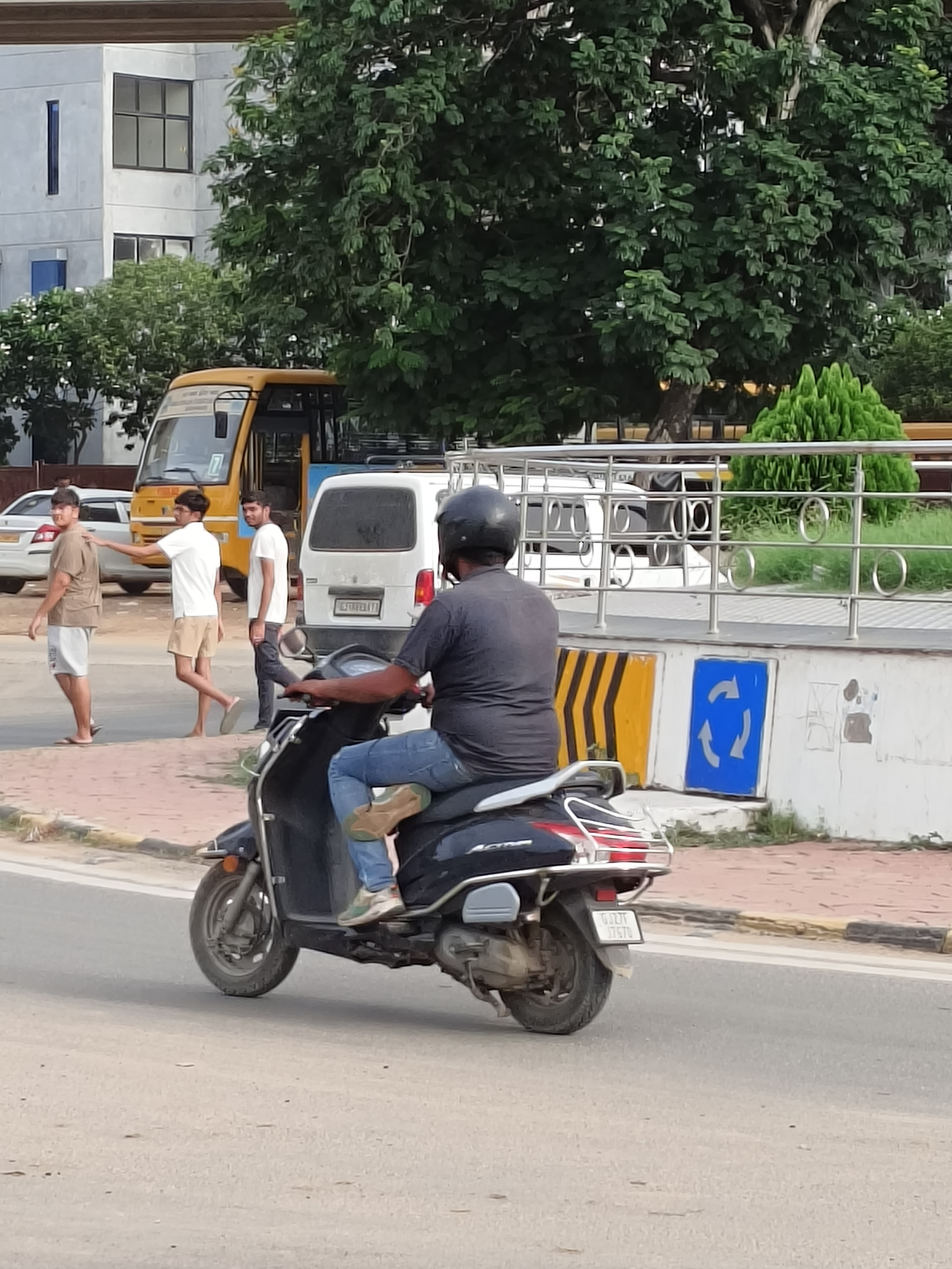BikeWithRider: (155, 451, 695, 1046)
Helmet: (417, 476, 524, 603)
